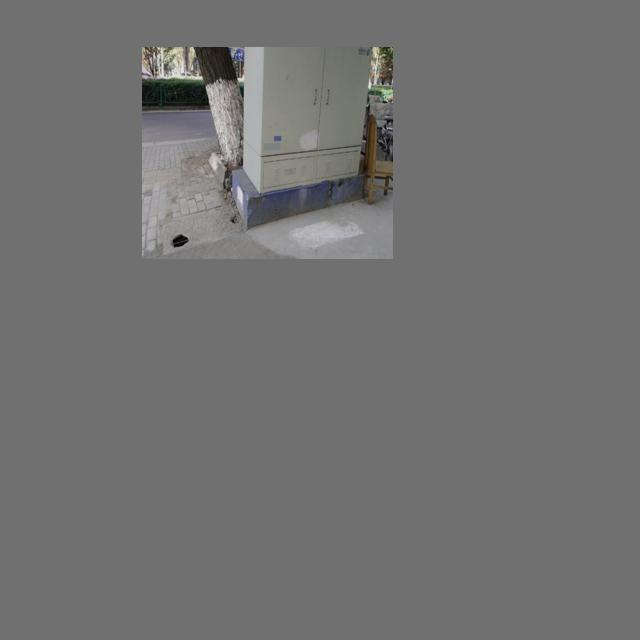broke: (163, 201, 241, 248)
